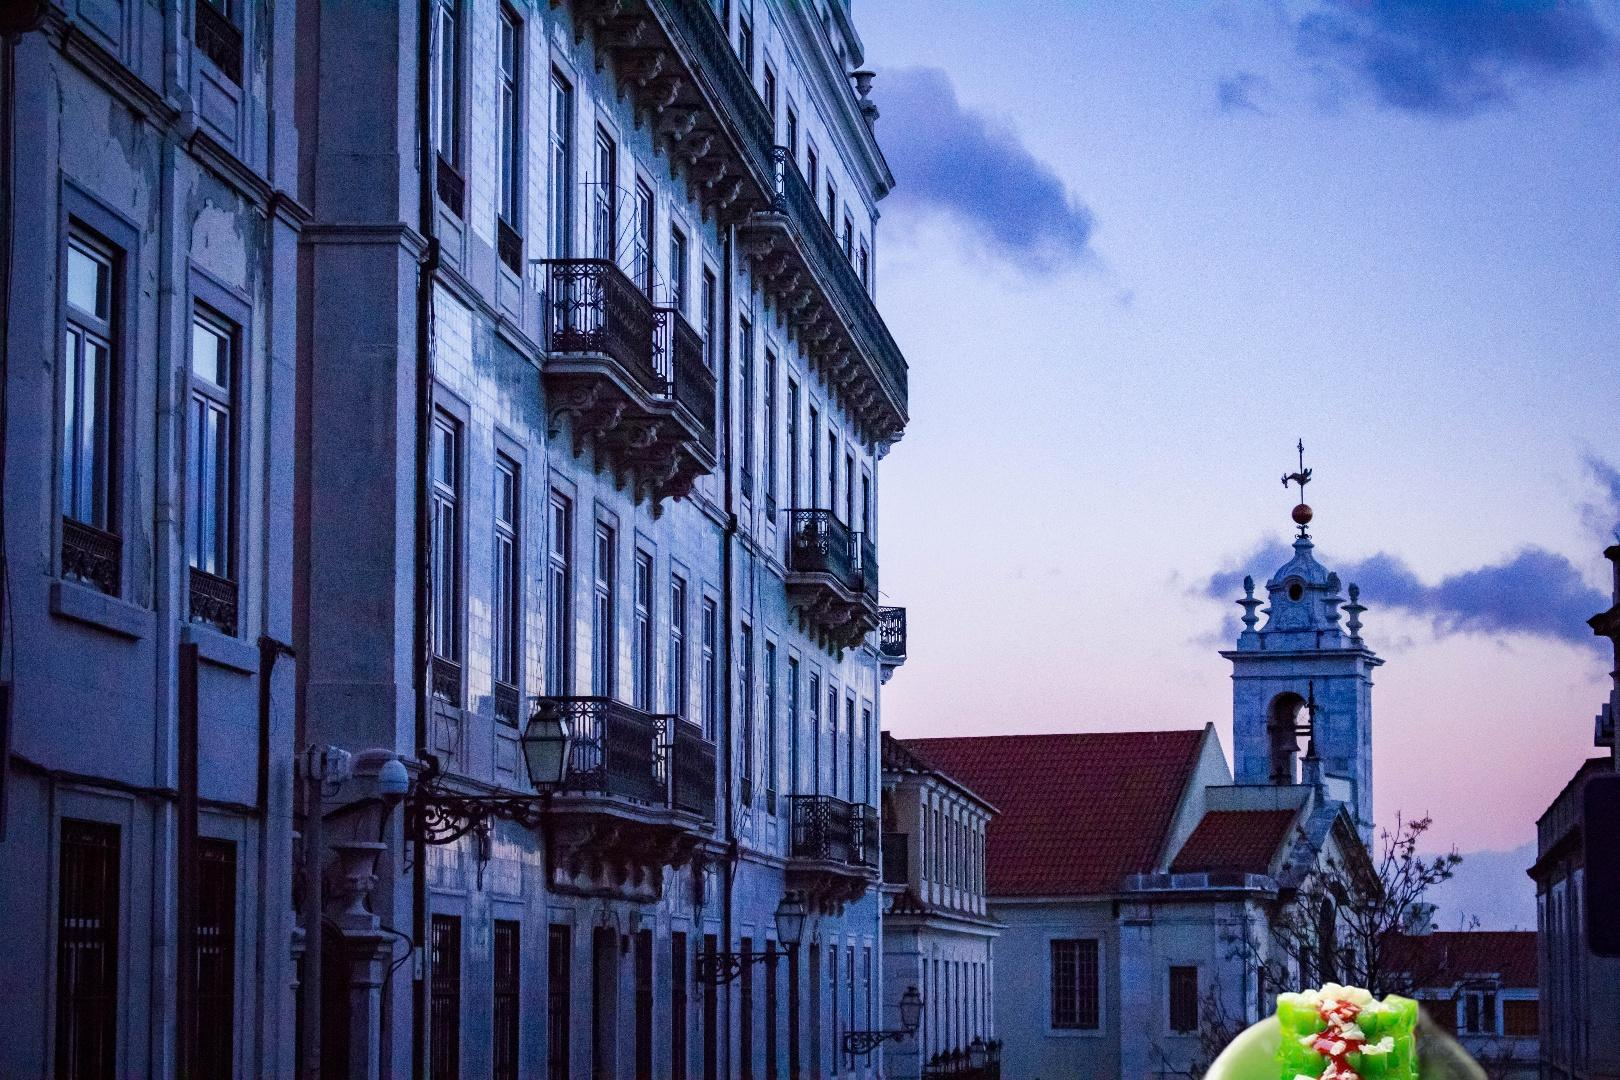biological: (1190, 978, 1501, 1080)
